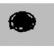correct: (7, 10, 36, 34)
